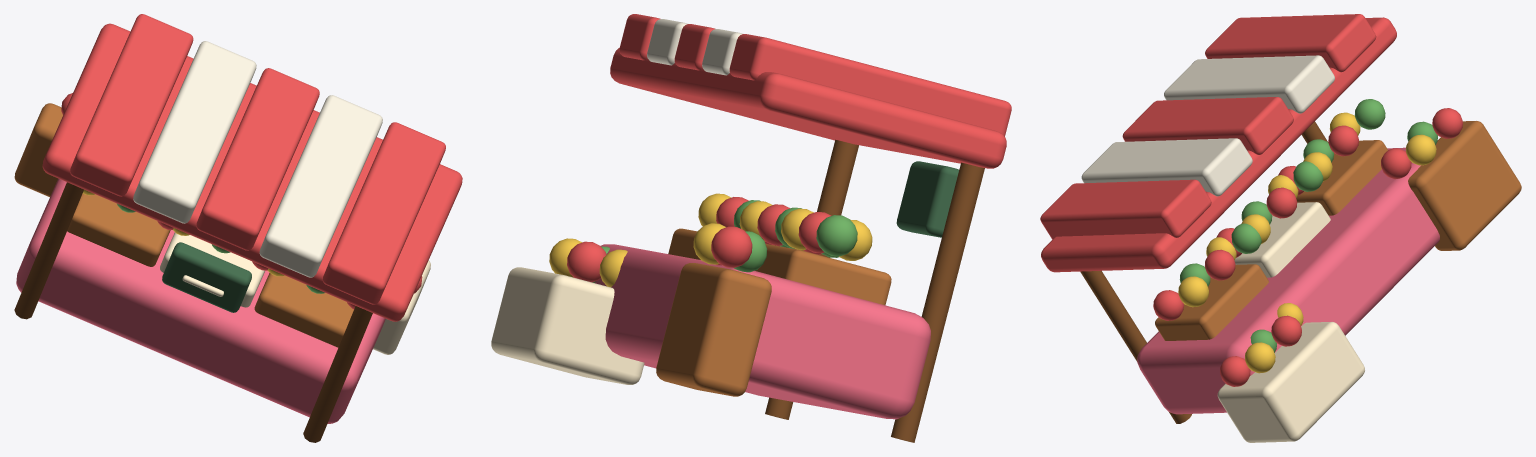
The model's file is market-stall.glb.
The picture shows the model from 3 angles, left to right: view 1: azimuth 30°, elevation 25°; view 2: azimuth 150°, elevation 25°; view 3: azimuth 270°, elevation 25°; orthographic projection. The views are drawn at different scales.
Size of the model in its own units: 1.84 by 1.74 by 2.06.
